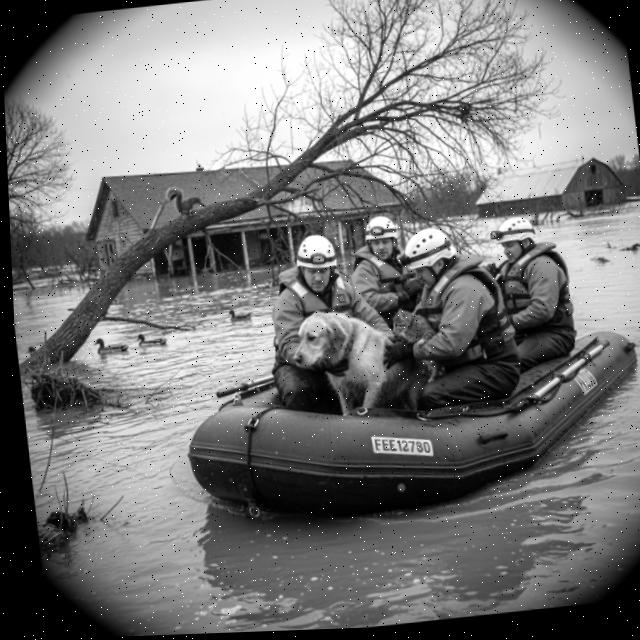cat: (389, 299, 452, 389)
dog: (280, 303, 426, 434)
rescuer: (253, 227, 407, 423), (396, 216, 529, 421), (485, 207, 583, 367), (348, 212, 427, 318)
